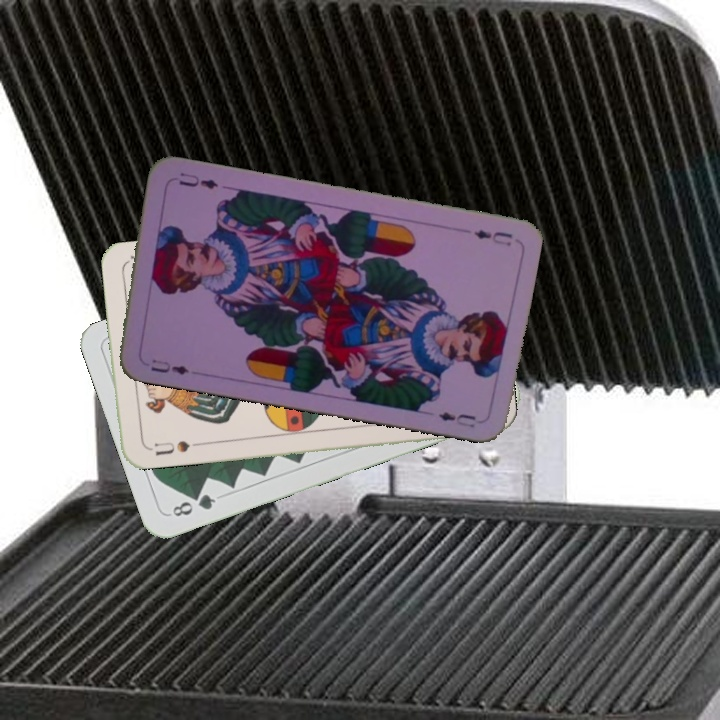EU: (146, 355, 192, 378), (469, 226, 515, 249)
G8: (168, 489, 219, 520)
SU: (150, 437, 192, 458)
